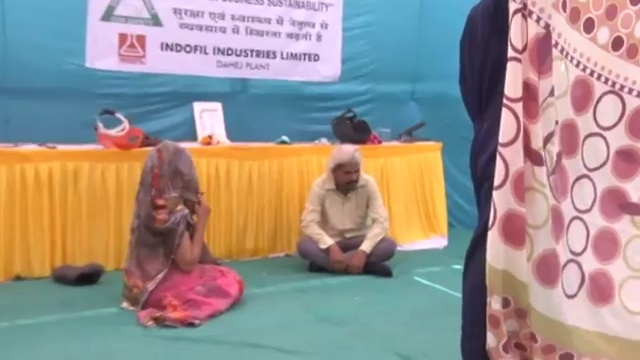helmet_off: (148, 143, 194, 188), (328, 145, 361, 194)
person: (122, 142, 246, 330), (457, 1, 514, 359), (293, 145, 398, 279)
